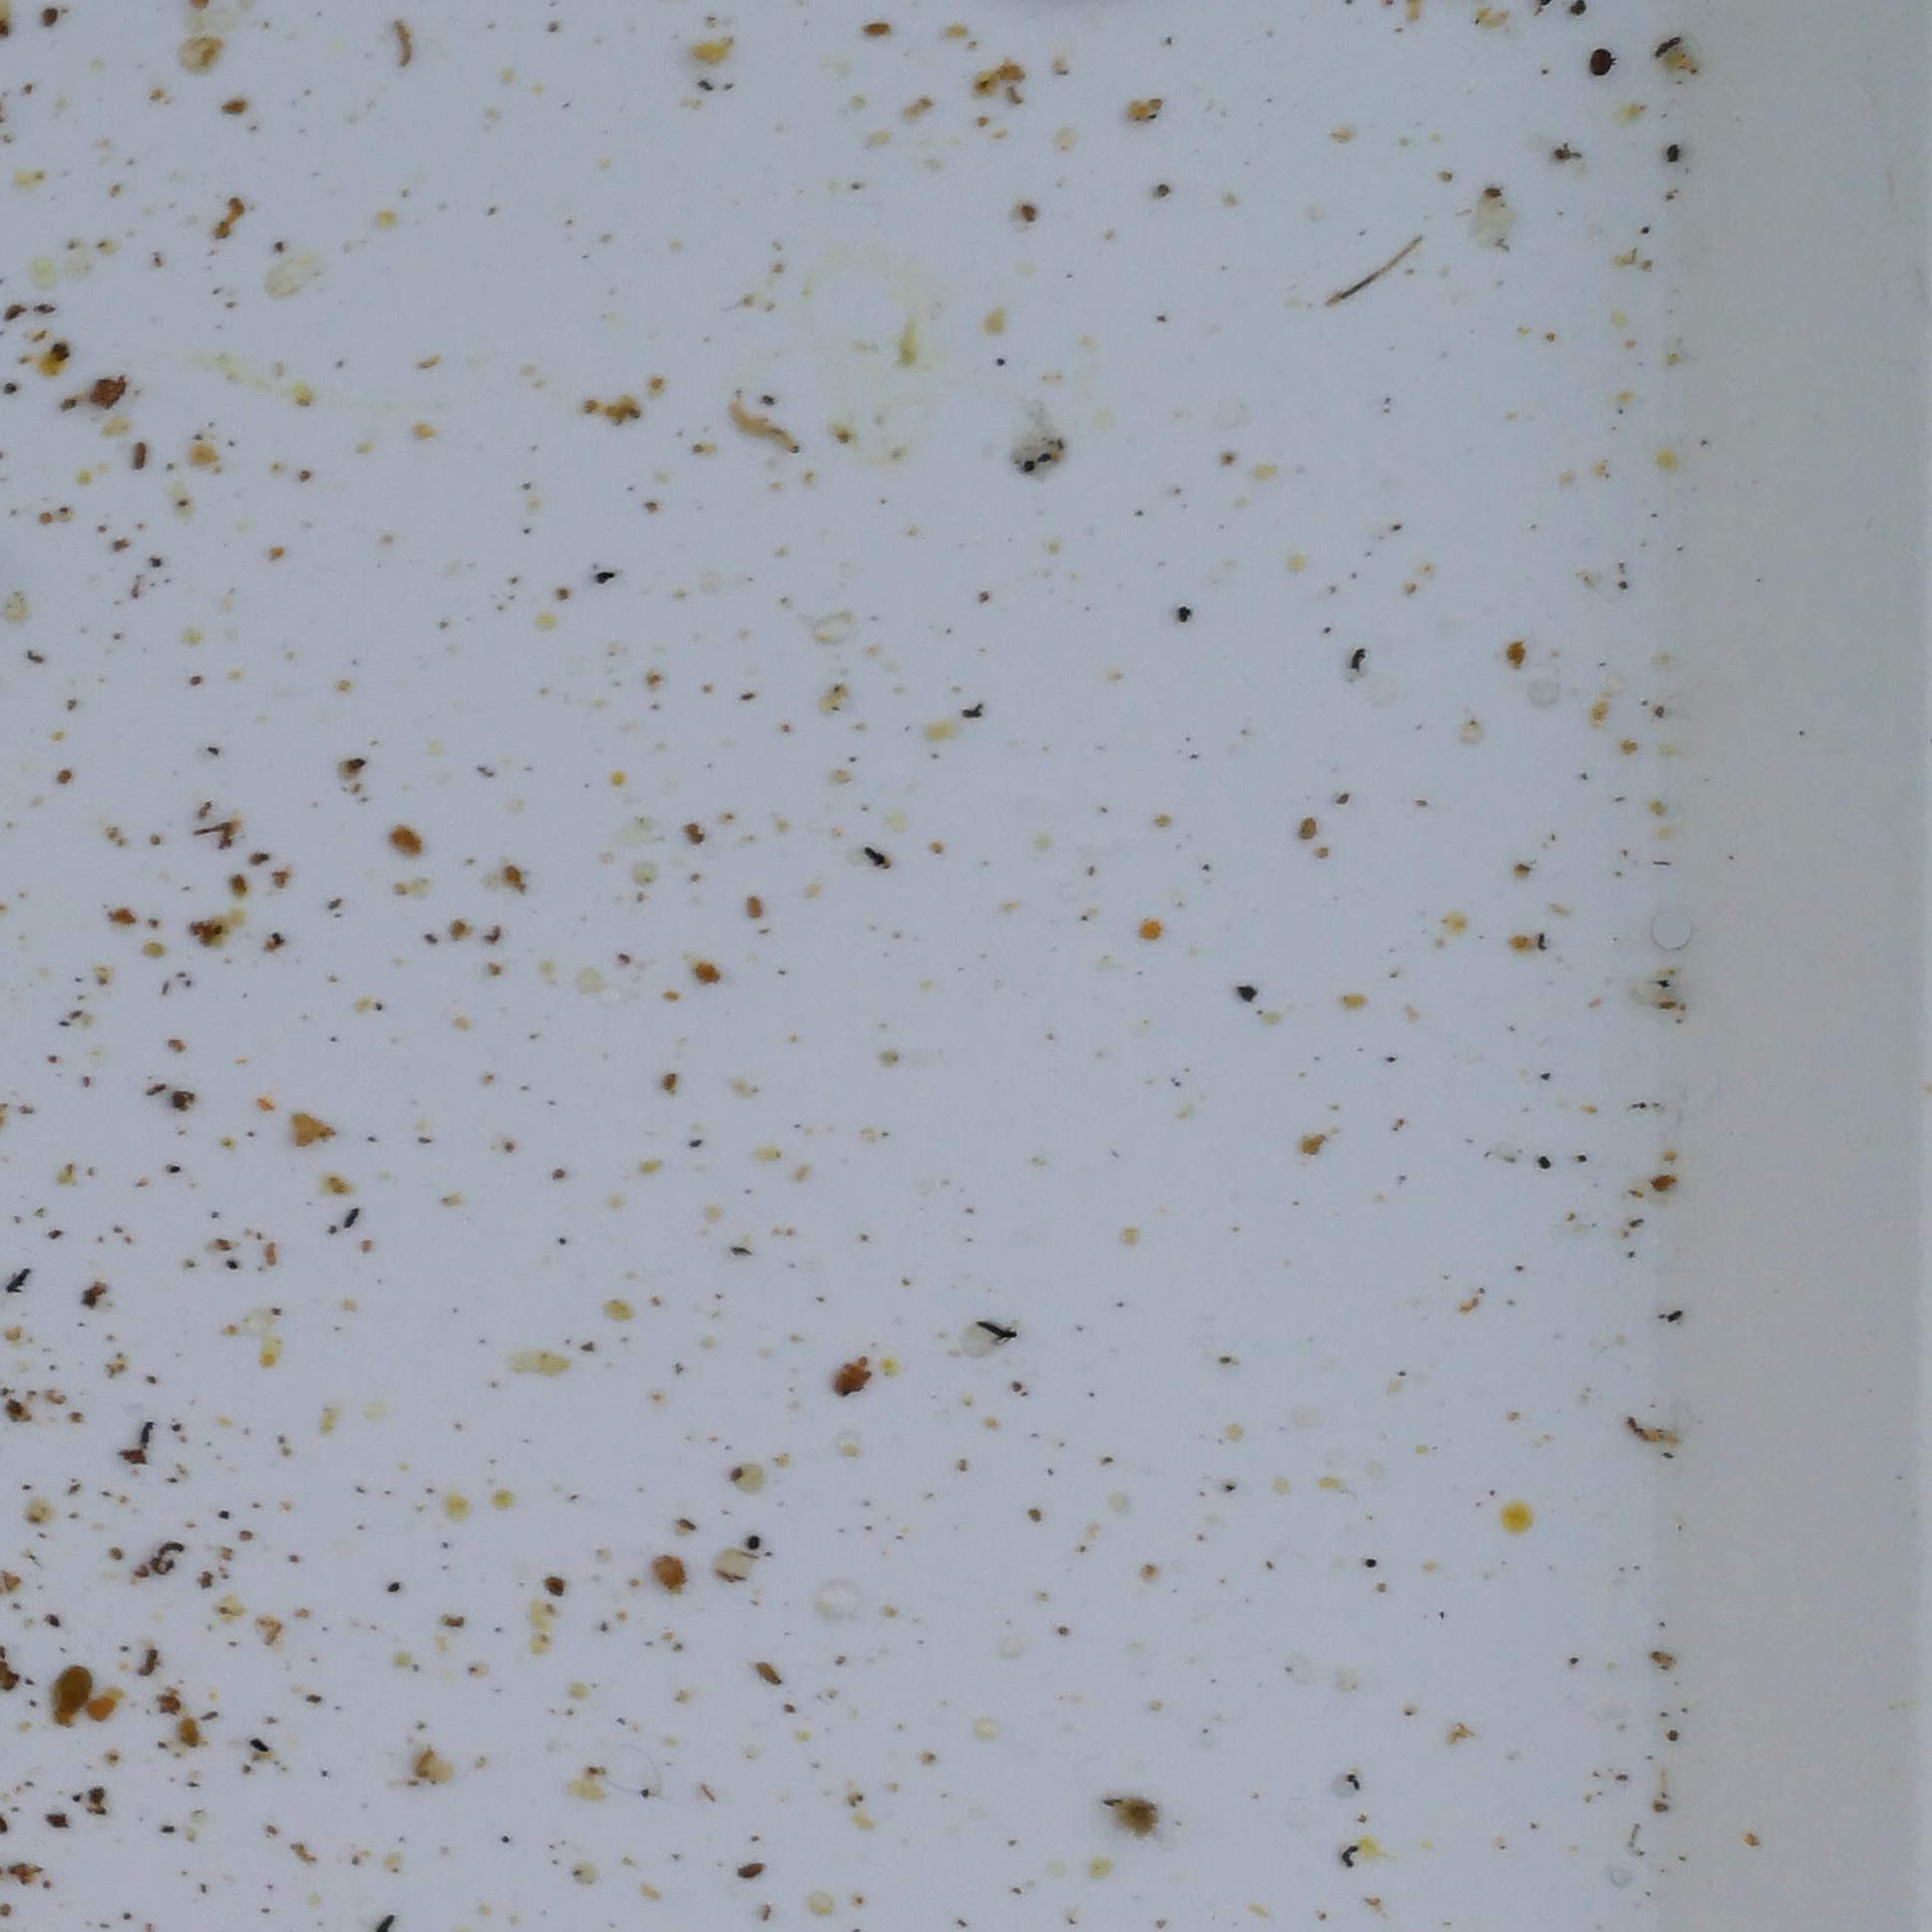Varroa: (1589, 48, 1610, 71)
